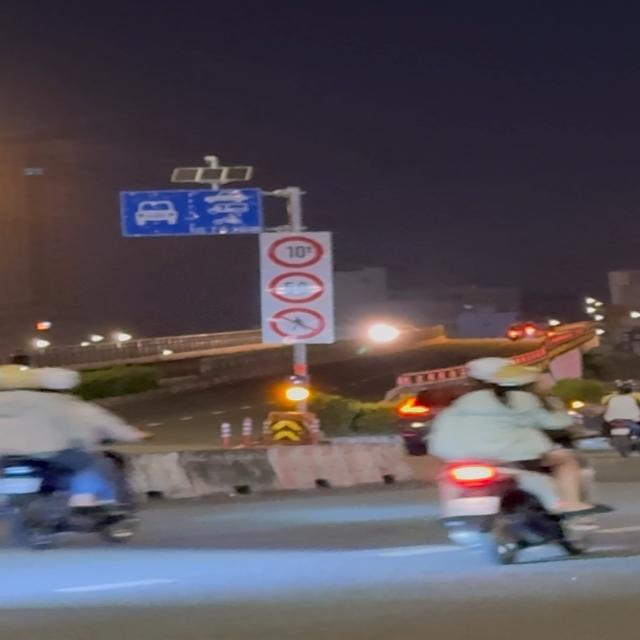Bien bao cam nguoi di bo: (266, 306, 334, 342)
Bien bao toc do toi da cho phep: (267, 271, 331, 305)
